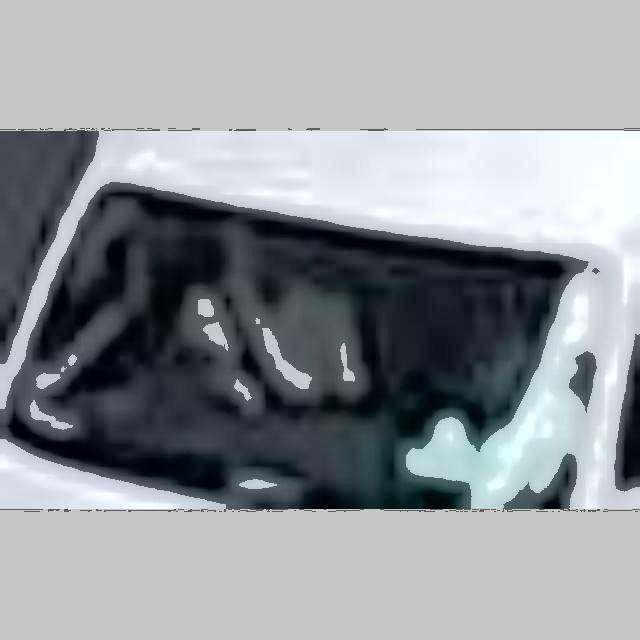pakai: (155, 238, 378, 432)
